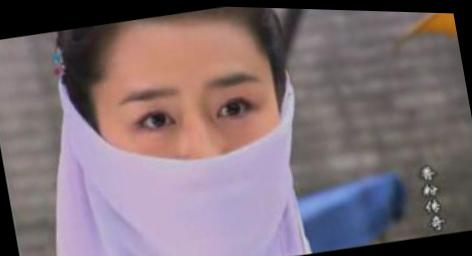WRONG: (100, 59, 295, 248)
